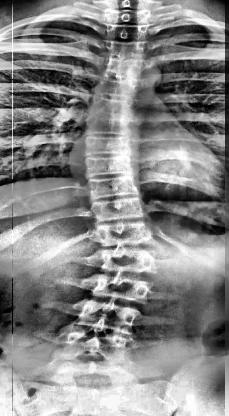Vertebrae: (49, 329, 131, 365), (77, 298, 141, 334), (98, 249, 160, 277), (95, 222, 157, 250), (94, 272, 150, 302), (93, 198, 149, 226), (84, 133, 136, 157), (90, 95, 136, 121), (87, 178, 145, 198), (87, 116, 137, 139), (86, 156, 138, 178), (98, 76, 140, 100), (108, 40, 150, 61), (106, 23, 150, 43), (108, 6, 148, 26), (105, 56, 143, 76)
